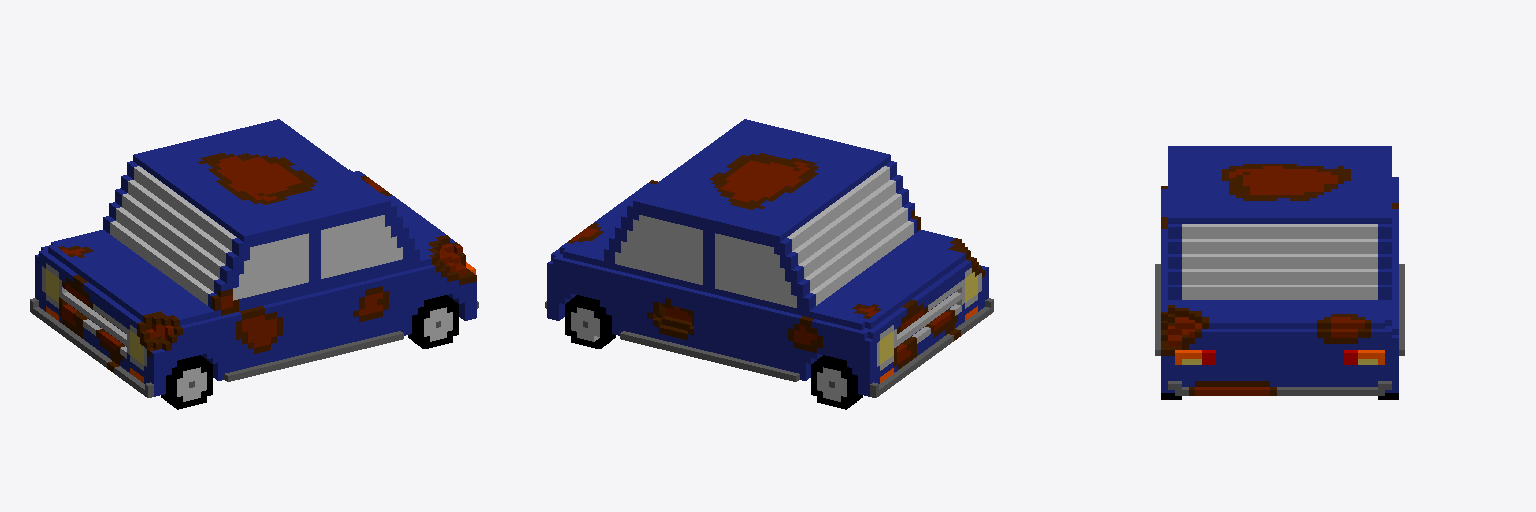
The picture shows the model from 3 angles: view 1: azimuth 30°, elevation 25°; view 2: azimuth 150°, elevation 25°; view 3: azimuth 270°, elevation 25°; orthographic projection.
Visible parts, largest first — view 1: object 1; view 2: object 1; view 3: object 1.
Boxes of the visible parts, x1=… form: object 1: x1=30, y1=119, x2=478, y2=409; object 1: x1=545, y1=119, x2=993, y2=409; object 1: x1=1155, y1=146, x2=1404, y2=399.
Bounding box in the file's own units: 5.7 × 2.5 × 3.7.
1 materials, 1 textured.